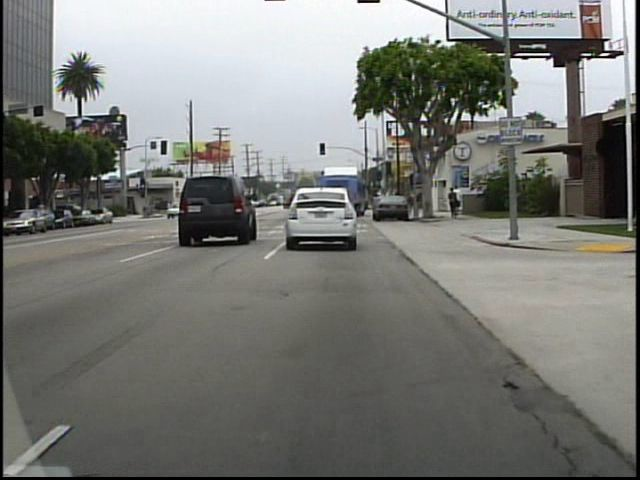person: (446, 186, 460, 221), (454, 184, 464, 217)
